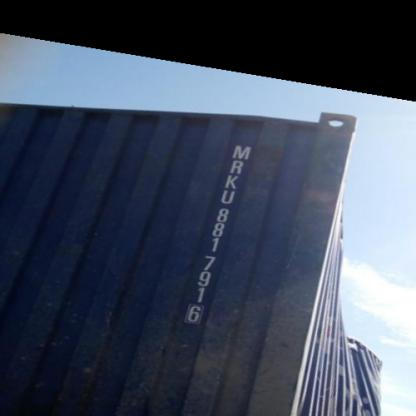Damage: (331, 320, 383, 415)
